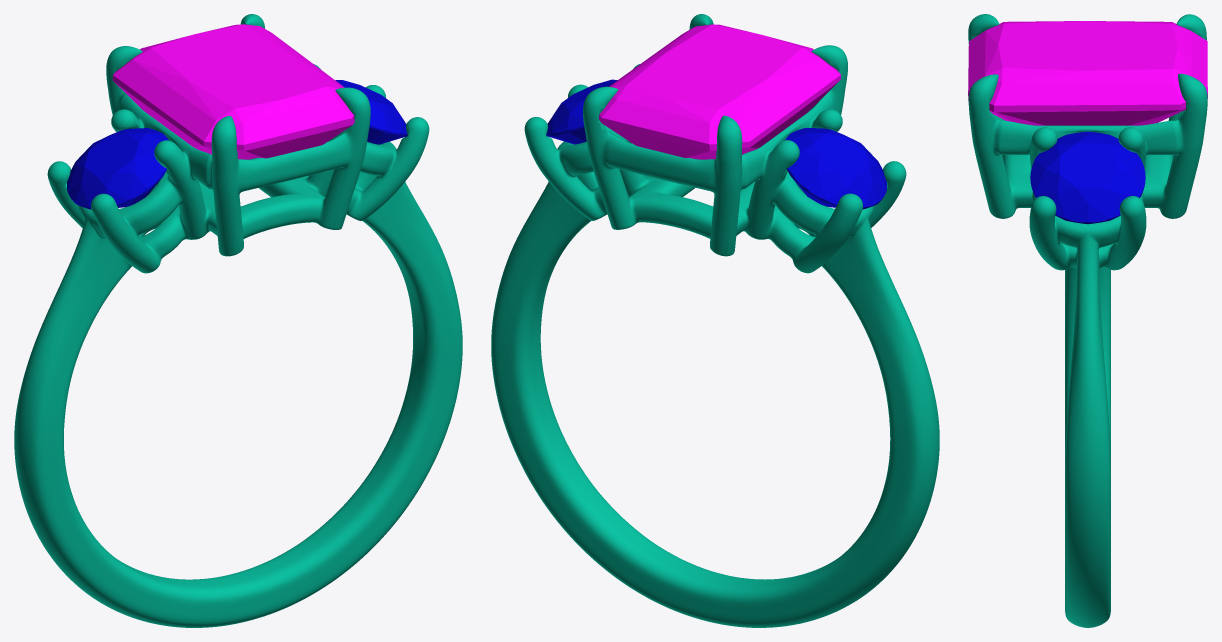
File: BE1D6534_RA_200ct_RENDER.glb
The picture shows the model from 3 angles, left to right: view 1: azimuth 30°, elevation 25°; view 2: azimuth 150°, elevation 25°; view 3: azimuth 270°, elevation 25°; orthographic projection.
Parts seen in each view (by area): view 1: Metal 01, CS_Diamond_Radiant, Diamond_Round_side.001, Diamond_Round_side; view 2: Metal 01, CS_Diamond_Radiant, Diamond_Round_side.001, Diamond_Round_side; view 3: Metal 01, CS_Diamond_Radiant, Diamond_Round_side.
Part boxes in pixels (x1=…): Metal 01: x1=14, y1=14, x2=462, y2=627; CS_Diamond_Radiant: x1=112, y1=24, x2=354, y2=159; Diamond_Round_side.001: x1=67, y1=128, x2=168, y2=209; Diamond_Round_side: x1=335, y1=80, x2=407, y2=144; Metal 01: x1=491, y1=14, x2=939, y2=627; CS_Diamond_Radiant: x1=599, y1=24, x2=840, y2=159; Diamond_Round_side.001: x1=785, y1=128, x2=886, y2=209; Diamond_Round_side: x1=546, y1=79, x2=617, y2=144; Metal 01: x1=968, y1=14, x2=1207, y2=627; CS_Diamond_Radiant: x1=968, y1=21, x2=1207, y2=125; Diamond_Round_side: x1=1030, y1=131, x2=1145, y2=224.
Bounding box in the file's own units: 20.07 × 24.08 × 9.37.
